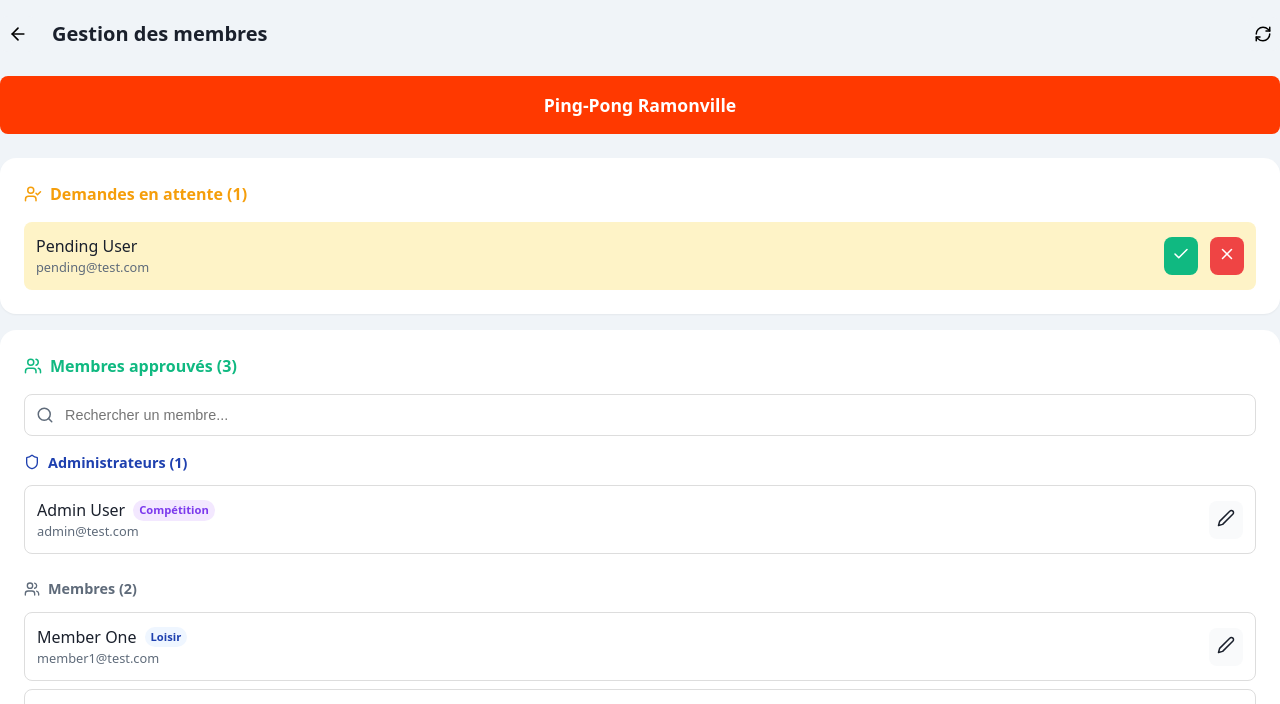
it: AdminPanel › ouvre la modal édition au clic sur le bouton modifier
The width and height of the screenshot is (1280, 704).
Click the button titled "Modifier" in the row of "admin@test.com" at (1226, 520), box top-left (1209, 501), bottom-right (1243, 539)
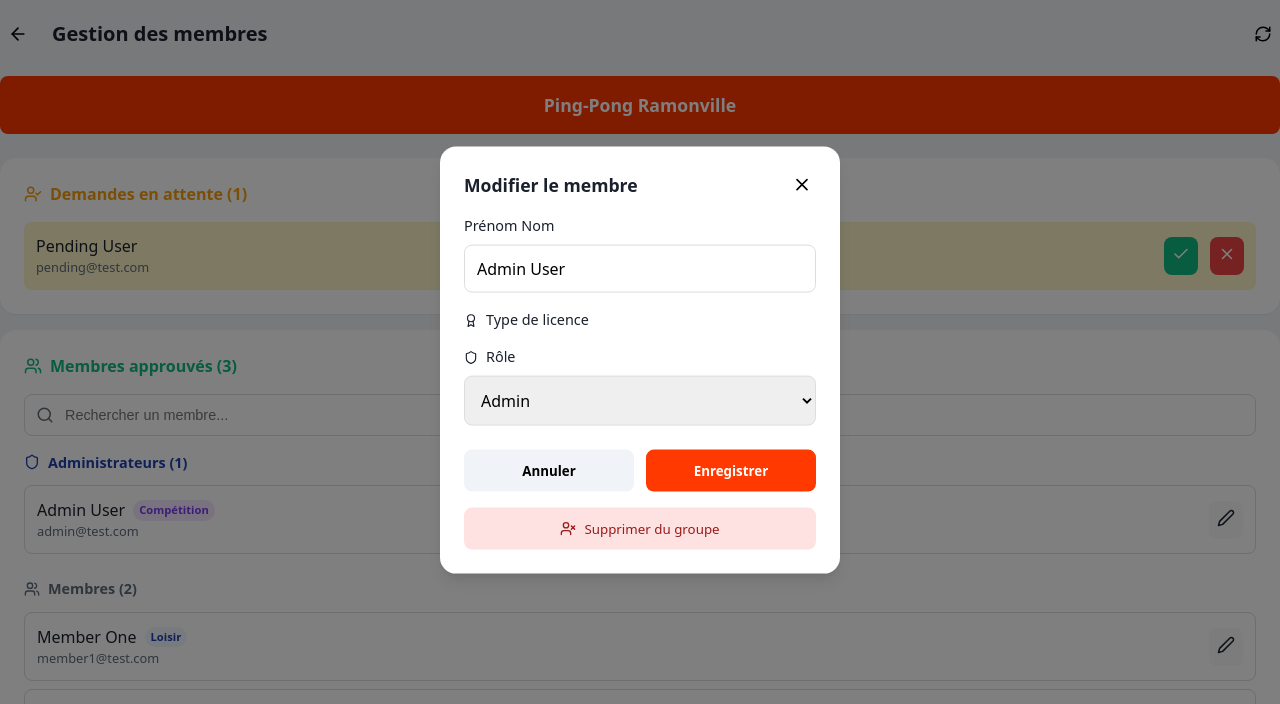
expect the heading "Modifier le membre" is shown: met, box top-left (464, 171), bottom-right (638, 198)
